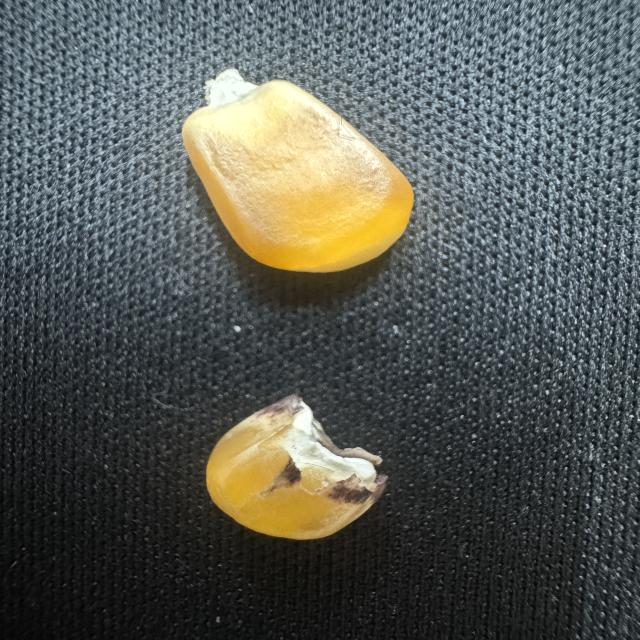Bad-Seed: (200, 392, 400, 544)
Good-Seed: (177, 64, 419, 275)
